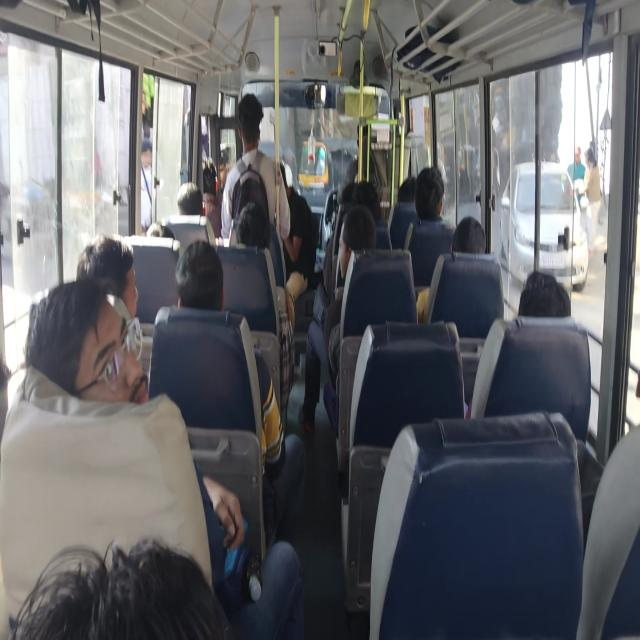person: (27, 536, 226, 640), (55, 296, 175, 454), (275, 156, 318, 291), (160, 256, 233, 324), (96, 247, 150, 317), (0, 360, 26, 468), (355, 177, 400, 233), (451, 213, 493, 268), (338, 200, 392, 242), (135, 218, 185, 254), (413, 170, 448, 214), (235, 101, 265, 144), (171, 181, 198, 227), (238, 212, 269, 244), (530, 282, 561, 313), (388, 170, 415, 197), (192, 166, 214, 197), (234, 196, 264, 214), (340, 177, 362, 195)
